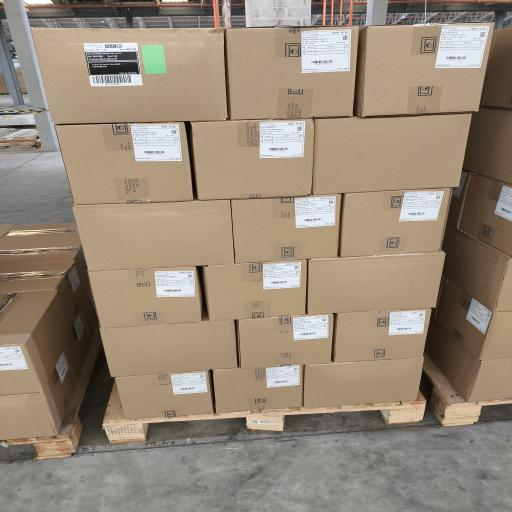pallet: (103, 384, 425, 443), (6, 329, 101, 460), (423, 355, 511, 426)
